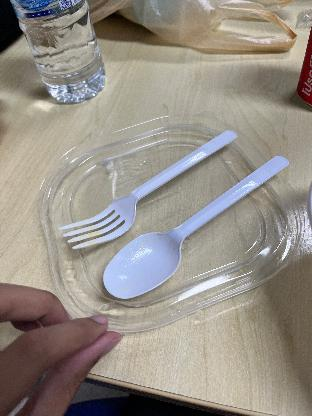Others: (94, 146, 298, 298), (55, 121, 235, 251)
